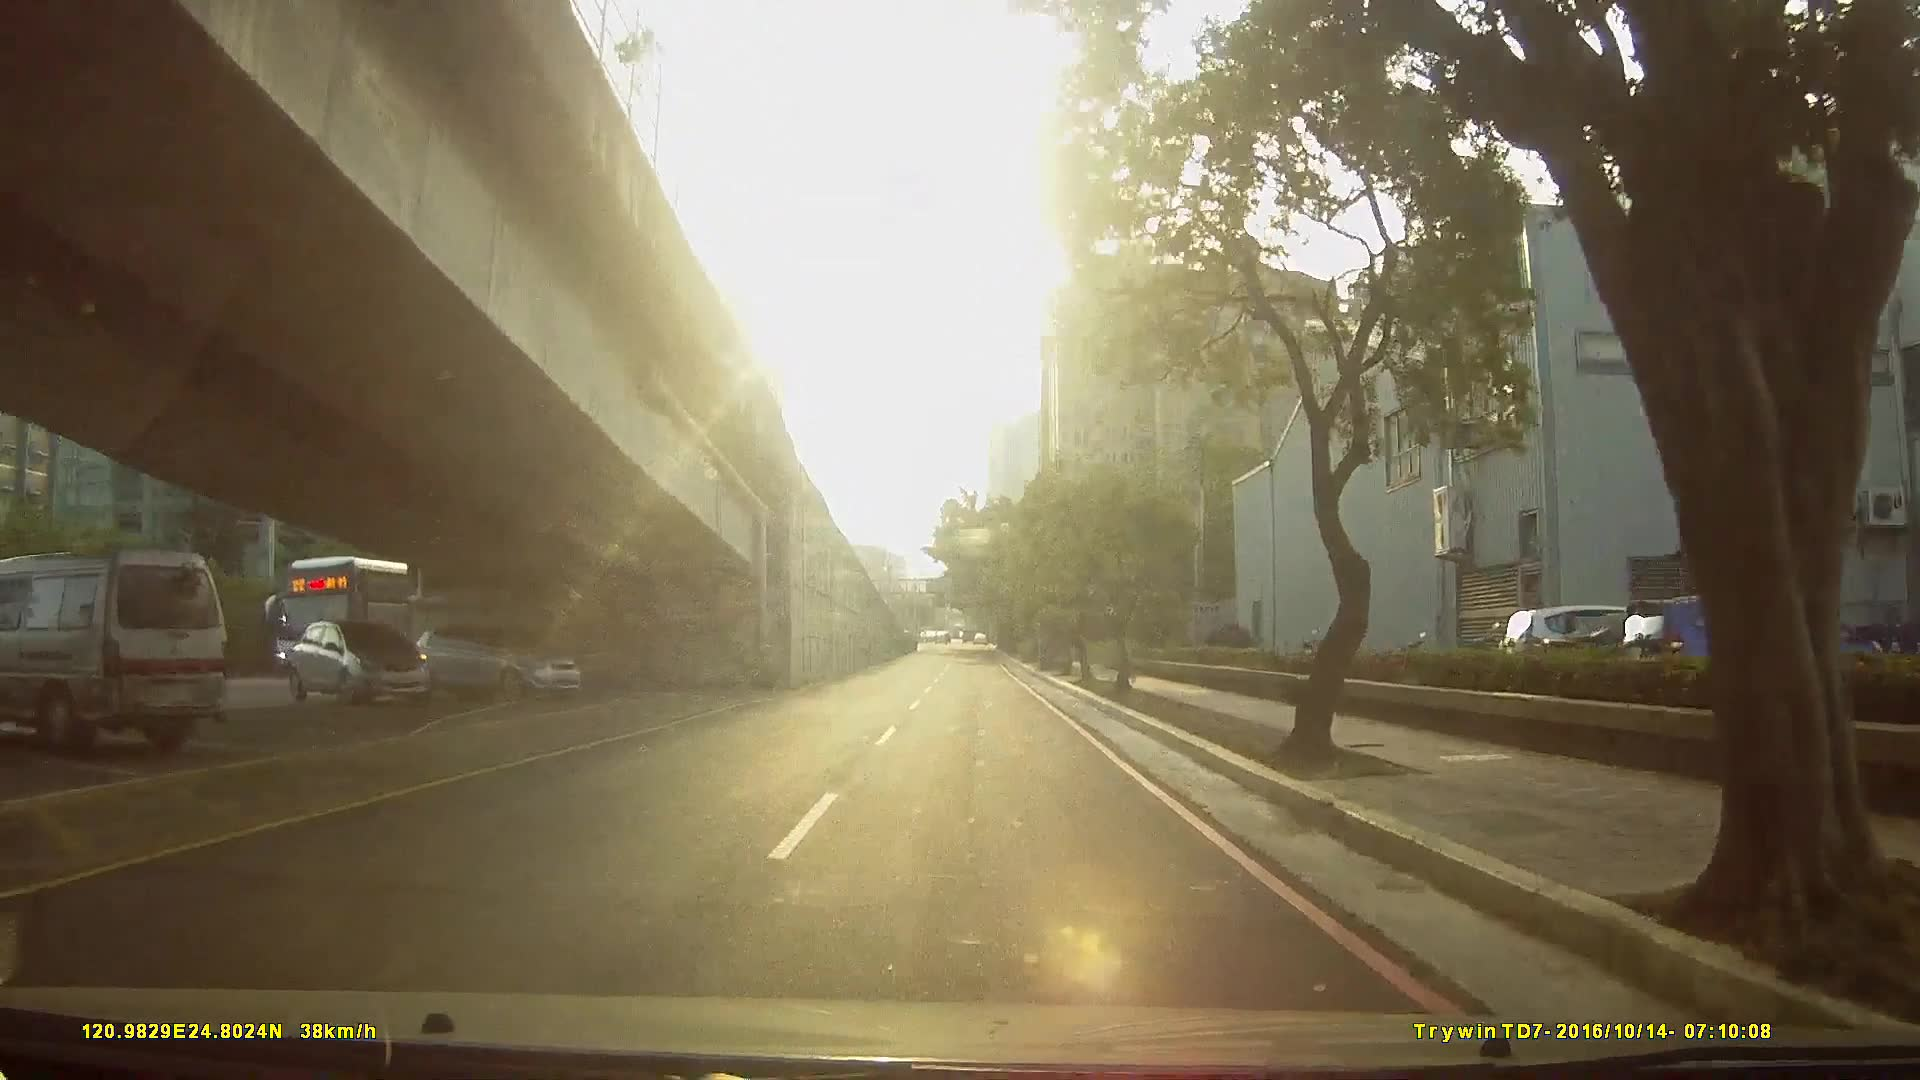vehicle: (1, 539, 236, 760), (262, 550, 491, 696), (402, 620, 579, 702), (276, 616, 427, 708)
